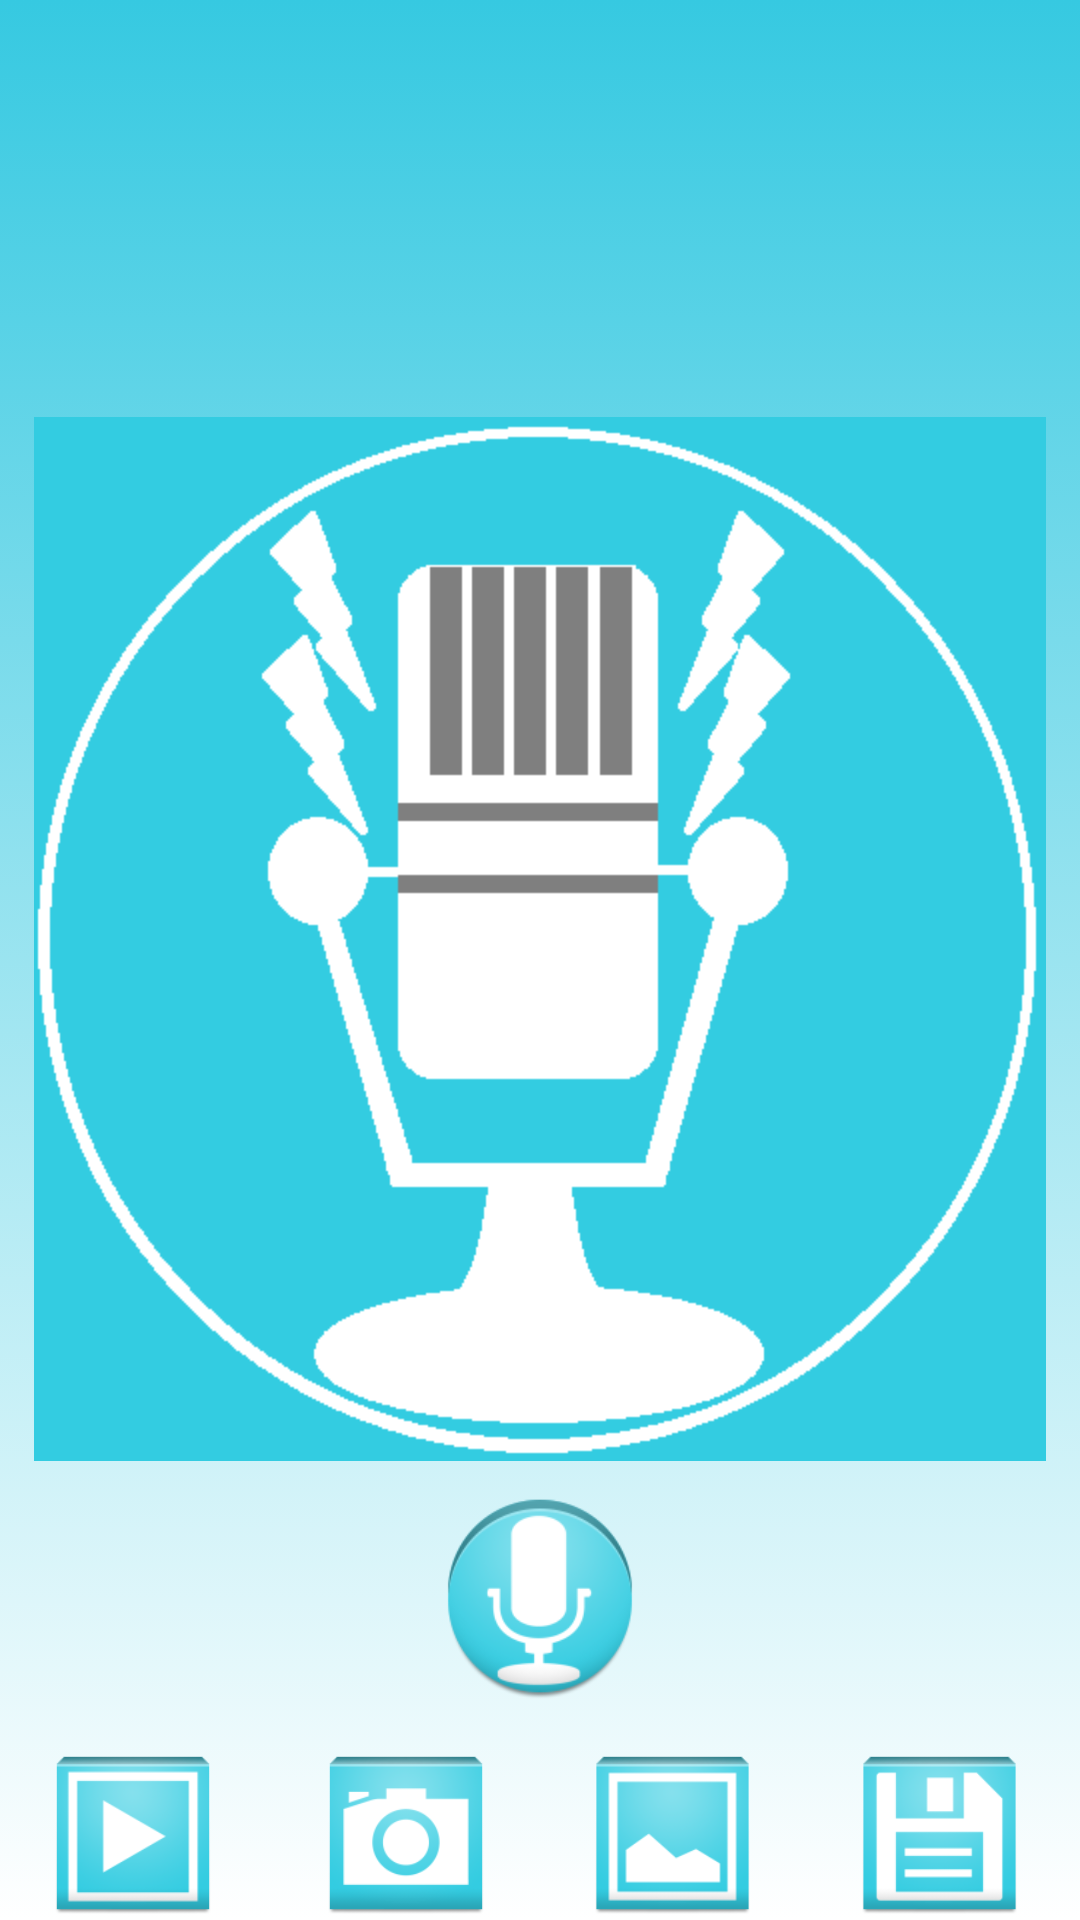

Icons on this 1080 x 1920 Android screen, each with its box as (x1, y1, x2, y2):
camera: (329, 1756, 483, 1912)
gallery: (596, 1756, 749, 1912)
Play Button: (56, 1756, 210, 1912)
record: (448, 1499, 632, 1697)
